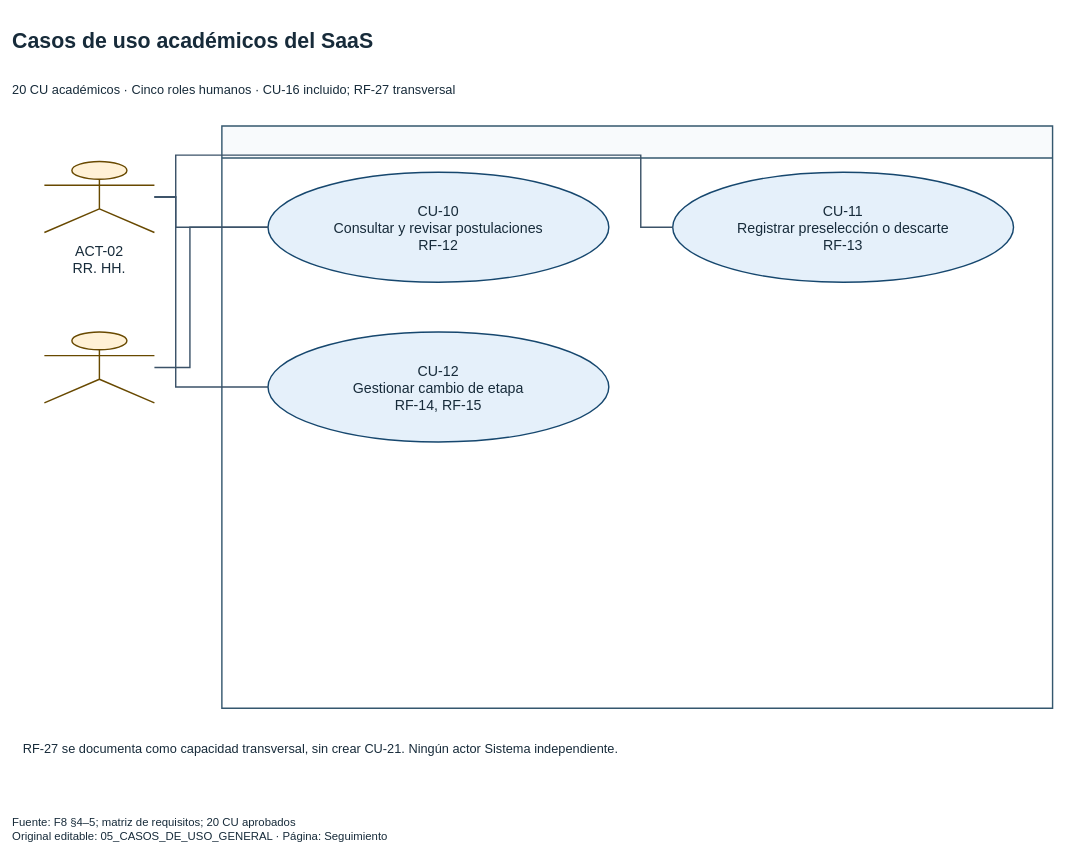
Some shapes in this 1068 by 863 pixel diagram are drawn without their labels. Each missing label, with the box of its shape:
ACT-03 Aprobador / Dirección: (43, 331, 155, 403)
LÍMITE DEL SISTEMA · Seguimiento: (221, 125, 1053, 709)
